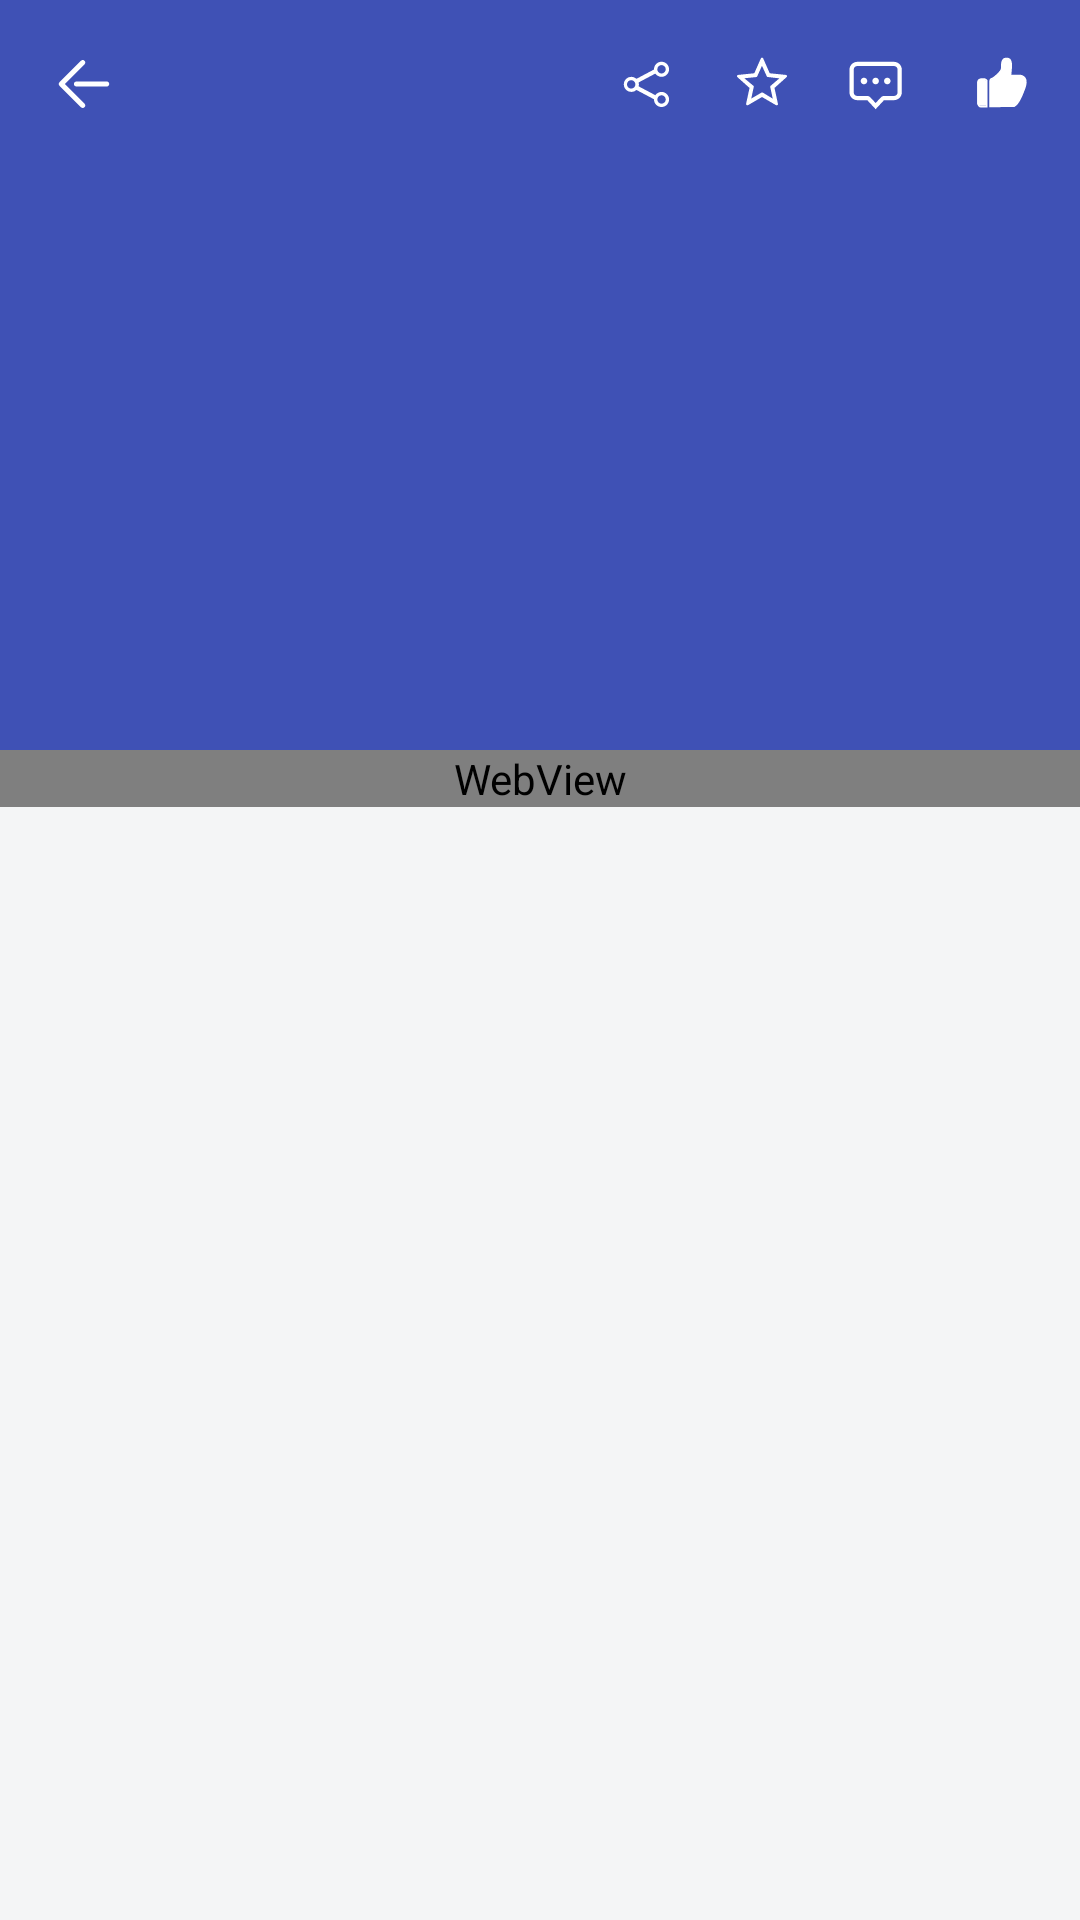

Where icons sit on this 1080px x 1920px app screen, as BBox(x1, y1, x2, y2):
yj comment: BBox(849, 61, 902, 109)
yj favorite: BBox(737, 57, 787, 106)
yj like: BBox(977, 57, 1027, 108)
yj share: BBox(623, 61, 669, 107)
